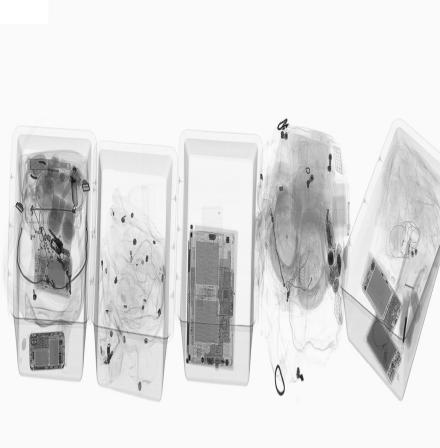Powerbank: (366, 316, 402, 381)
